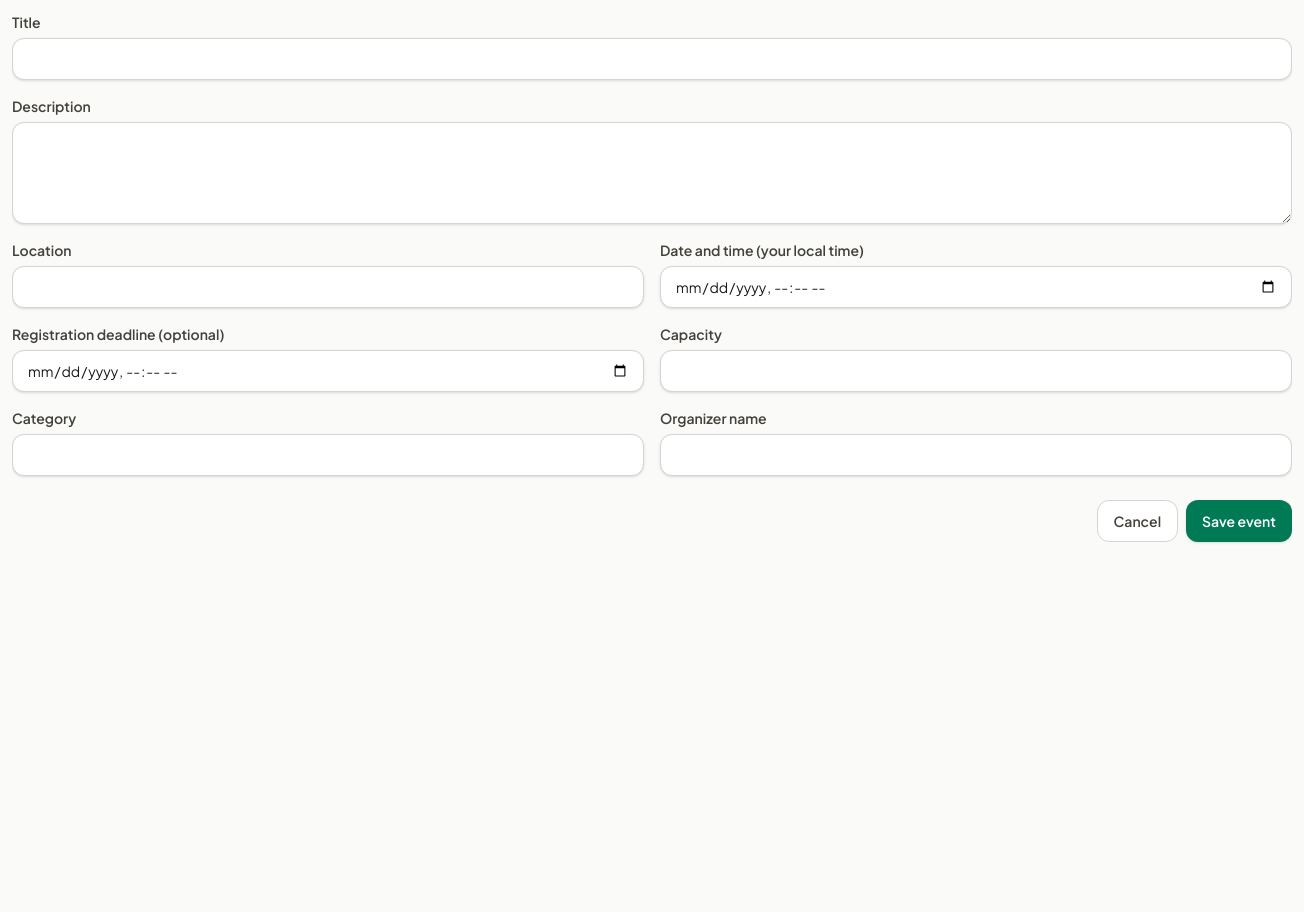
Test: EventForm › shows an error for every missing field and does not submit
This screenshot has width=1304, height=912.
Click the button "Save event": (1239, 521) [1186,500,1292,542]
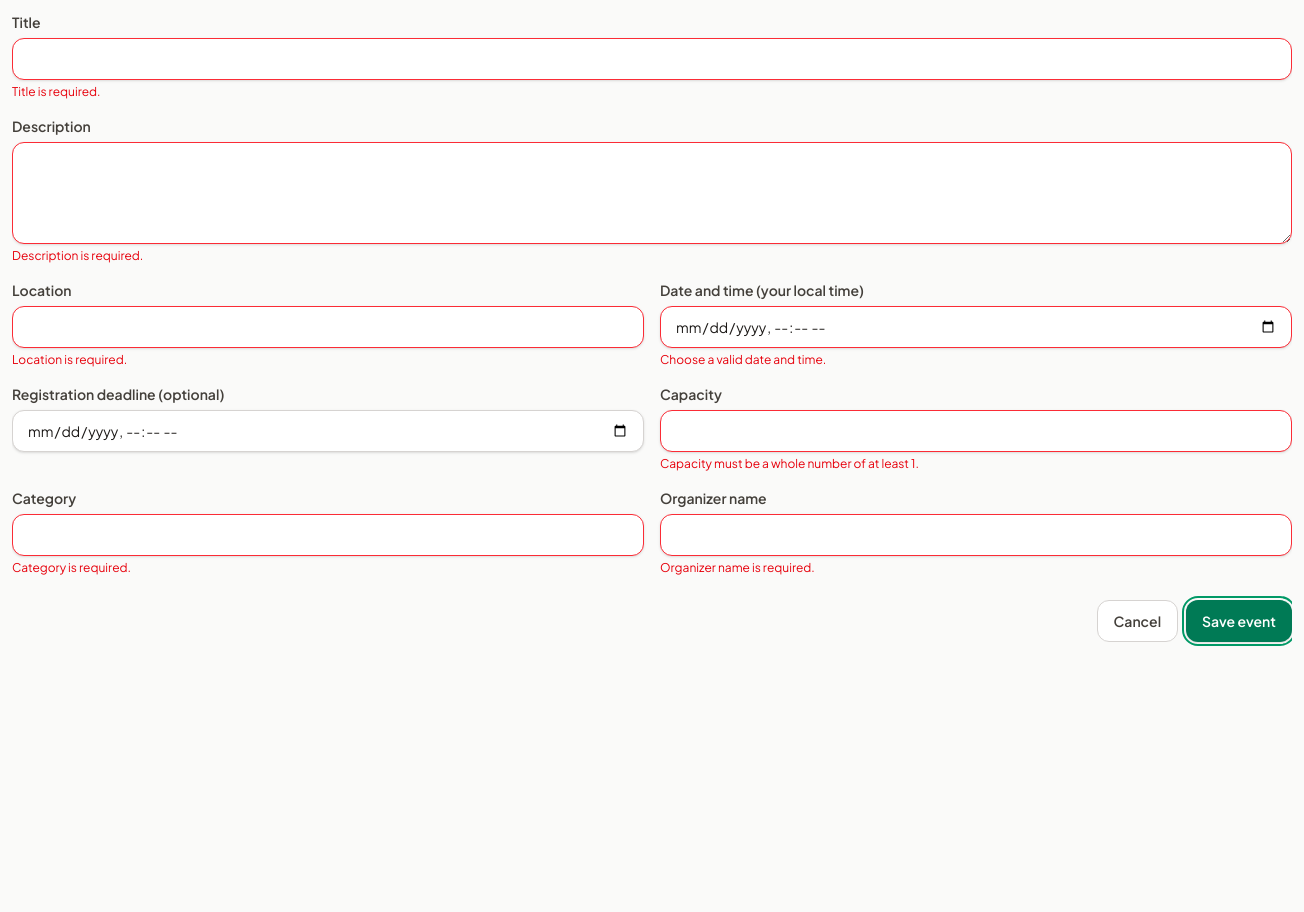
Now the text "Title is required." is shown, box [12,84,101,99]
Now the text "Description is required." is shown, box [12,248,143,263]
Now the text "Location is required." is shown, box [12,352,127,367]
